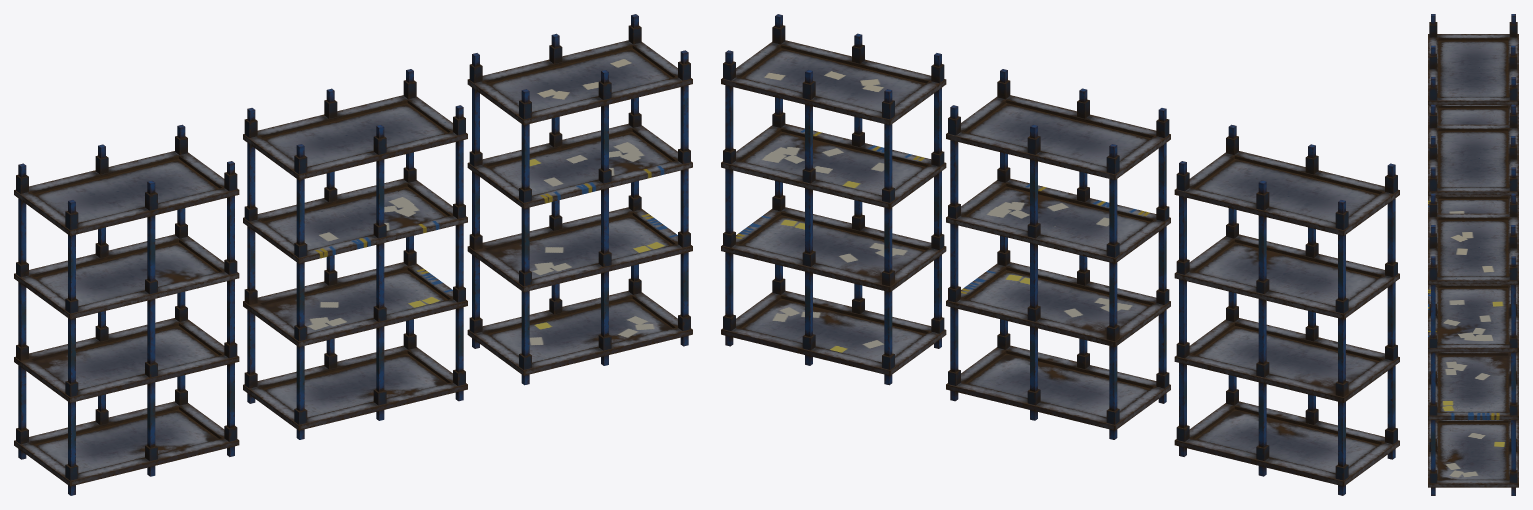
3 renders of one model, left to right at view 1: azimuth 30°, elevation 25°; view 2: azimuth 150°, elevation 25°; view 3: azimuth 270°, elevation 25°, orthographic. The views are drawn at different scales.
Visible parts, largest first — view 1: metal_shelf_rack_mesh_02, metal_shelf_rack_mesh_03, metal_shelf_rack_mesh_01; view 2: metal_shelf_rack_mesh_02, metal_shelf_rack_mesh_03, metal_shelf_rack_mesh_01; view 3: metal_shelf_rack_mesh_03, metal_shelf_rack_mesh_01, metal_shelf_rack_mesh_02.
Part boxes in pixels (x1,y1,x2,y2): metal_shelf_rack_mesh_02: [243, 69, 467, 439]; metal_shelf_rack_mesh_03: [467, 14, 692, 385]; metal_shelf_rack_mesh_01: [14, 124, 239, 495]; metal_shelf_rack_mesh_02: [946, 69, 1170, 439]; metal_shelf_rack_mesh_03: [721, 14, 946, 385]; metal_shelf_rack_mesh_01: [1174, 124, 1399, 495]; metal_shelf_rack_mesh_03: [1428, 193, 1518, 495]; metal_shelf_rack_mesh_01: [1428, 14, 1518, 124]; metal_shelf_rack_mesh_02: [1428, 104, 1518, 213].
Bounding box in the file's own units: 5.12 × 2.3 × 0.7971.
3 materials, 3 textured.
